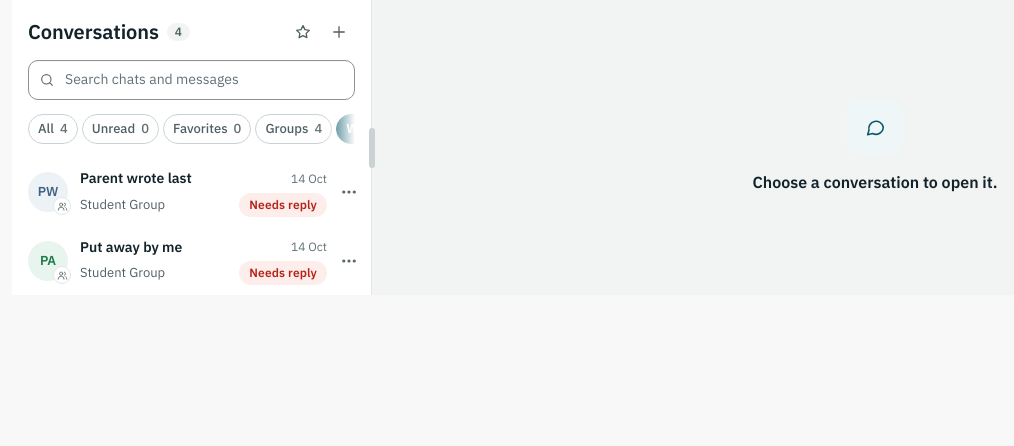
Test case: Admin chat workspace › opens on "Waiting for a reply" from the Dashboard: exactly the rows the waiting tile counts (PD-44)
The image size is (1014, 446).
Expected: the text "Parent wrote last" is shown, x1=80 y1=168 x2=192 y2=189
Expected: the text "Put away by me" is shown, x1=80 y1=237 x2=182 y2=258
Step 1. Click the button "All 4" → coordinates (53, 129), box x1=28 y1=114 x2=78 y2=144
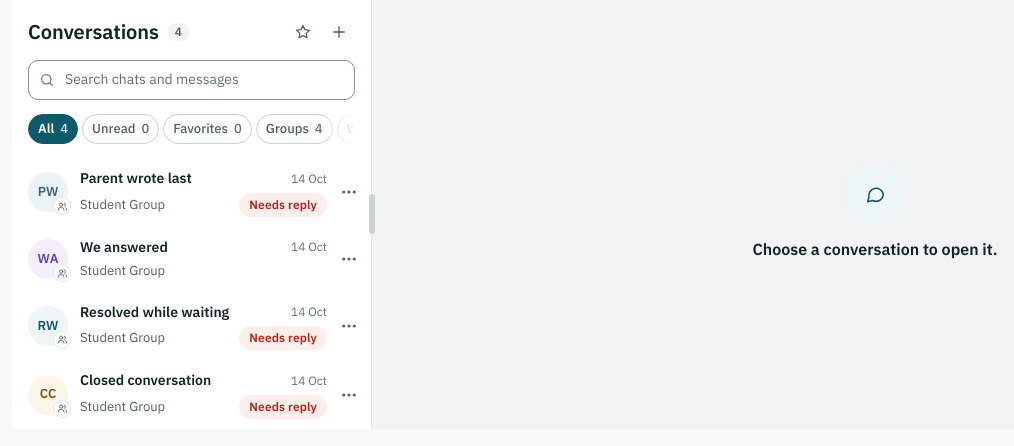
Now the text "We answered" is shown, box x1=80 y1=237 x2=168 y2=258
